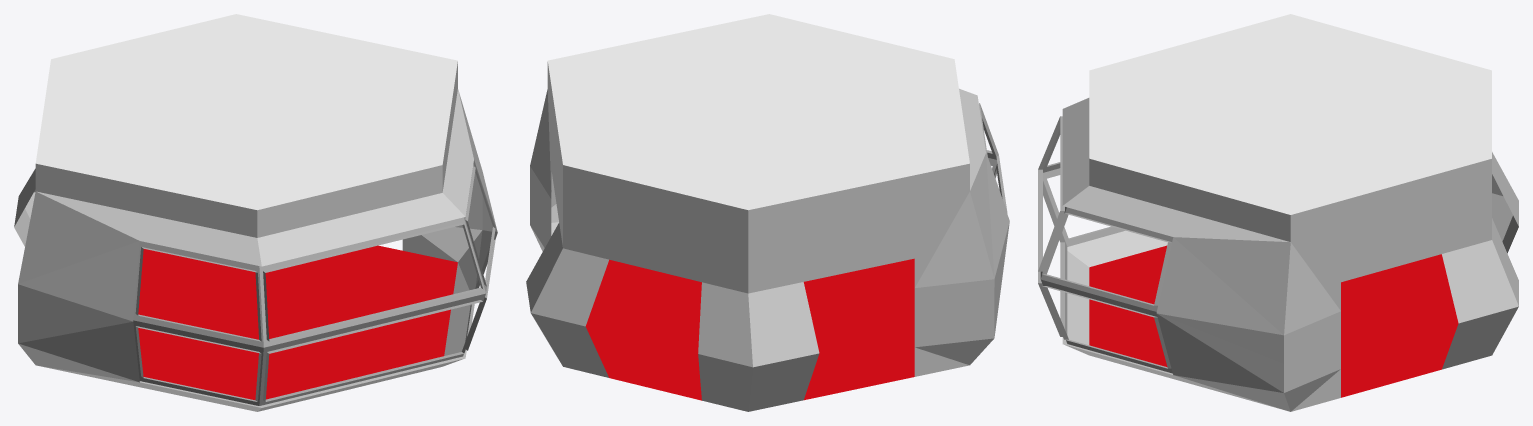
The model's file is controlandnavi.fbx.
3 renders of one model, left to right at view 1: azimuth 30°, elevation 25°; view 2: azimuth 150°, elevation 25°; view 3: azimuth 270°, elevation 25°, orthographic. The views are drawn at different scales.
Parts seen in each view (by area): view 1: Control & Navigation; view 2: Control & Navigation; view 3: Control & Navigation.
Boxes of the visible parts, bbox=[...] form: Control & Navigation: bbox=[14, 14, 497, 411]; Control & Navigation: bbox=[526, 14, 1009, 411]; Control & Navigation: bbox=[1038, 14, 1518, 411].
Size of the model in its own units: 1750 by 726 by 1608.
